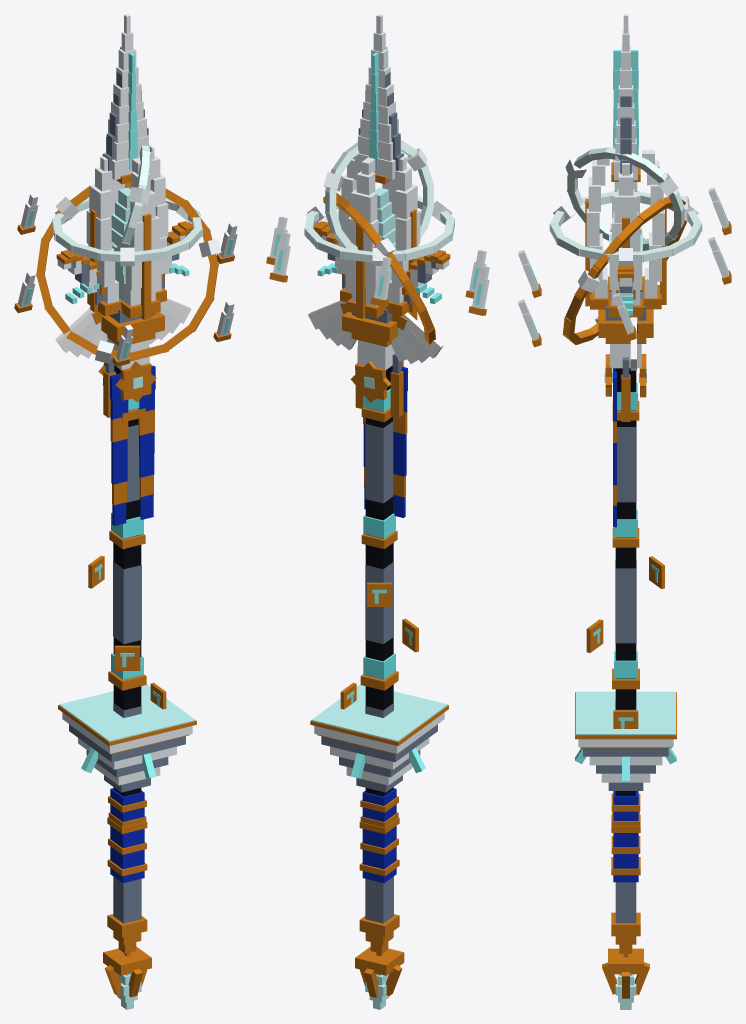
The model's file is aetherlance.obj.
3 renders of one model, left to right at view 1: azimuth 30°, elevation 25°; view 2: azimuth 150°, elevation 25°; view 3: azimuth 270°, elevation 25°, orthographic.
Parts seen in each view (by area): view 1: vamplate_224, shaft_5, lance_grip_225, shaft_1, vamplate_218, spearhead_32, vamplate_216, butt_spike_284, shaft_7, petal_1_leaf_48, shaft_6, collar_gear_272 (+12 smaller); view 2: vamplate_224, shaft_7, lance_grip_225, shaft_5, shaft_1, shaft_6, shaft_4, vamplate_218, spearhead_32, vamplate_216, butt_spike_284, collar_gear_272_back (+15 smaller); view 3: vamplate_224, shaft_5, shaft_7, lance_grip_225, spearhead_32, shaft_1, shaft_4, vamplate_218, butt_spike_284, shaft_6, vamplate_216, vamplate_214 (+6 smaller).
Part boxes in pixels (bbox=[...]): vamplate_224: bbox=[59, 684, 195, 741]; shaft_5: bbox=[113, 562, 141, 644]; lance_grip_225: bbox=[110, 788, 144, 883]; shaft_1: bbox=[113, 876, 141, 923]; vamplate_218: bbox=[62, 712, 192, 753]; spearhead_32: bbox=[90, 307, 164, 341]; vamplate_216: bbox=[69, 724, 185, 762]; butt_spike_284: bbox=[103, 946, 151, 975]; shaft_7: bbox=[126, 424, 139, 502]; petal_1_leaf_48: bbox=[141, 214, 151, 319]; shaft_6: bbox=[113, 499, 141, 569]; collar_gear_272: bbox=[120, 363, 151, 400]; vamplate_224: bbox=[311, 684, 447, 741]; shaft_7: bbox=[365, 421, 393, 503]; lance_grip_225: bbox=[362, 788, 396, 883]; shaft_5: bbox=[365, 562, 393, 644]; shaft_1: bbox=[365, 876, 393, 923]; shaft_6: bbox=[365, 497, 393, 569]; shaft_4: bbox=[365, 637, 393, 710]; vamplate_218: bbox=[314, 712, 444, 753]; spearhead_32: bbox=[342, 310, 417, 341]; vamplate_216: bbox=[321, 724, 437, 762]; butt_spike_284: bbox=[355, 946, 404, 975]; collar_gear_272_back: bbox=[355, 363, 387, 399]; vamplate_224: bbox=[576, 691, 675, 734]; shaft_5: bbox=[615, 560, 636, 643]; shaft_7: bbox=[617, 421, 636, 502]; lance_grip_225: bbox=[613, 791, 638, 882]; spearhead_32: bbox=[598, 309, 653, 337]; shaft_1: bbox=[615, 882, 636, 923]; shaft_4: bbox=[615, 643, 636, 709]; vamplate_218: bbox=[578, 739, 673, 747]; butt_spike_284: bbox=[608, 948, 643, 974]; shaft_6: bbox=[615, 502, 636, 568]; vamplate_216: bbox=[583, 748, 668, 756]; vamplate_214: bbox=[589, 756, 662, 765].
Bounding box in the file's own units: 2 × 8.79 × 1.71.
